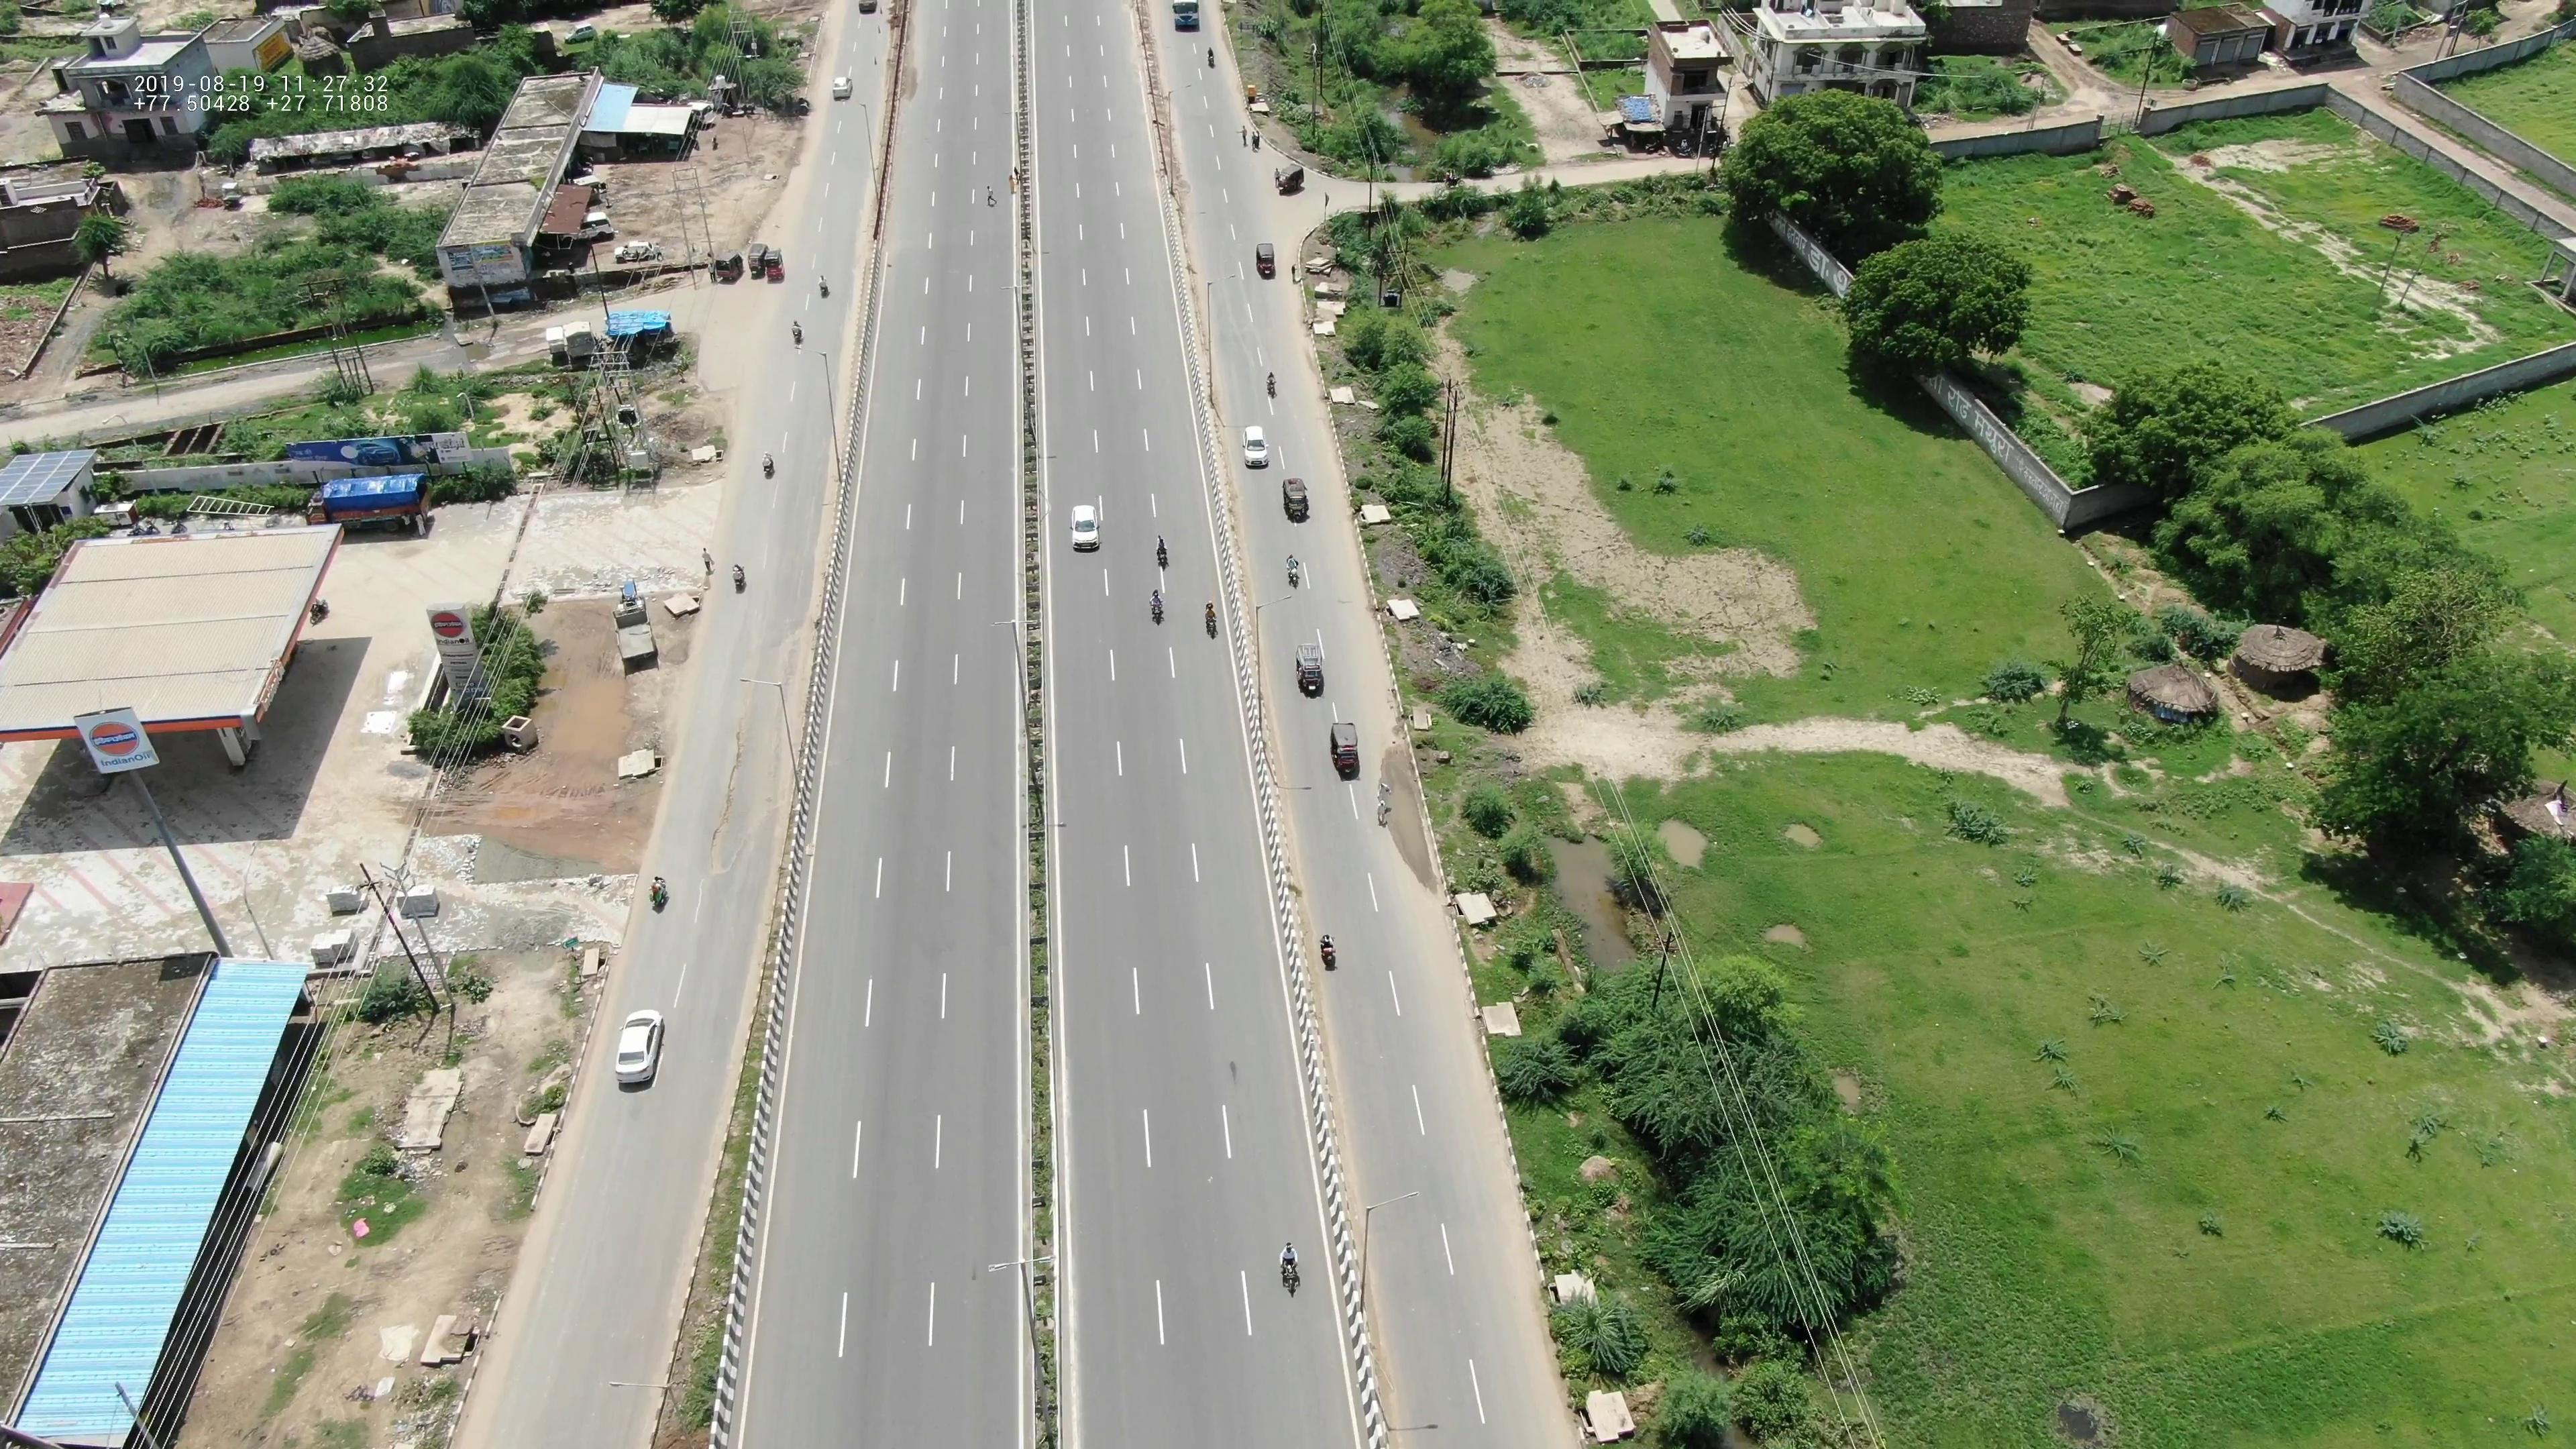Longitudinal_cracks: (702, 713, 748, 863)
